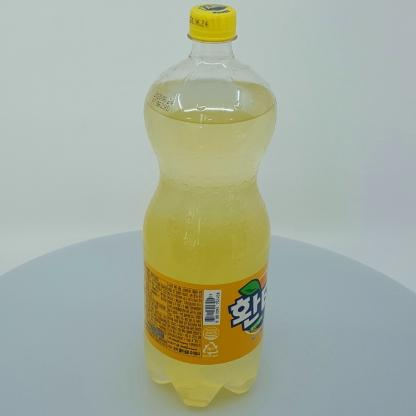--------1-5L: (142, 3, 277, 407)
